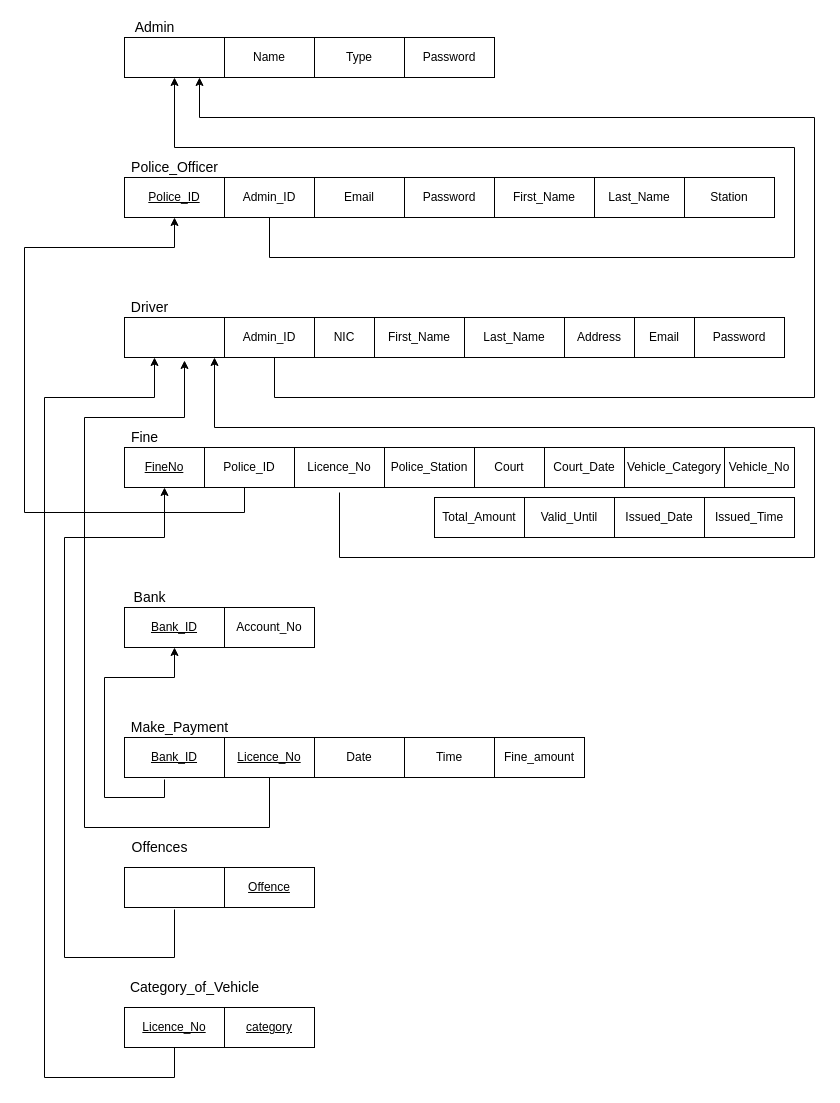
The diagram is 840 pixels wide and 1103 high, and some of its shapes have lost their labels. Here are the shapes that lost their labels. From the top down, the centre of each, then its label:
(174,57): ID
(174,337): LicenceNo
(174,887): Fine_No
